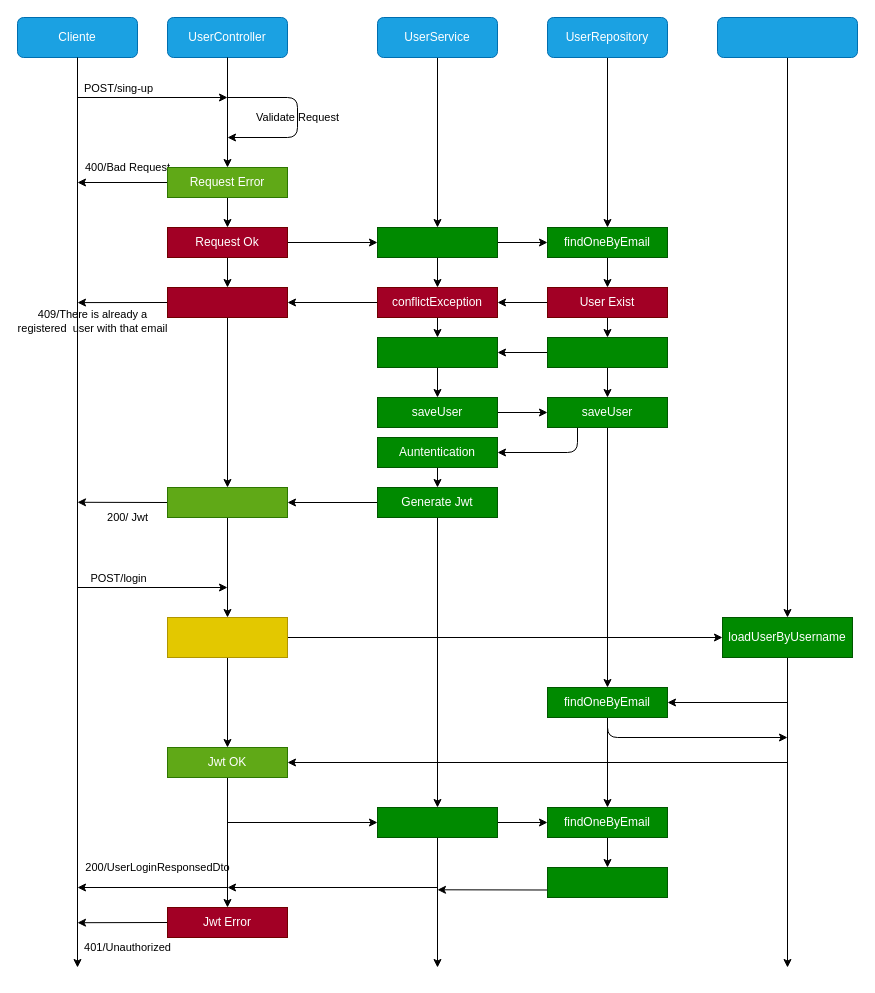
The diagram is 875 pixels wide and 993 high, and some of its shapes have lost their labels. The shapes that lost their labels are listed below. From the top down, each one's box as (x1, y1, x2, y2) in pixels, then its label:
(716, 16, 858, 58): UserDetailsServiceImpl
(376, 226, 498, 258): singUpUser
(166, 286, 288, 318): ApiExceptionHandler
(376, 336, 498, 368): EncoderPassword
(546, 336, 668, 368): User Not Found
(166, 486, 288, 518): Response singup OK
(166, 616, 288, 658): ApiTokenFilter
(376, 806, 498, 838): loginUser
(546, 866, 668, 898): findPhoneByUser
